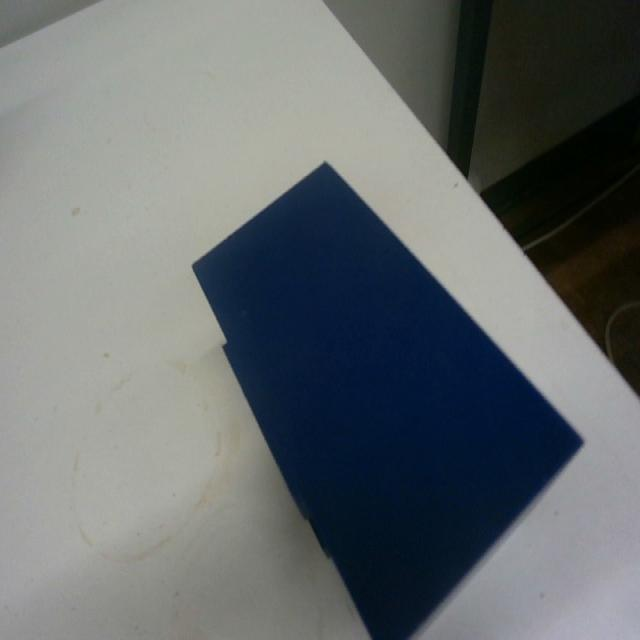Blue Cuboid: (189, 157, 585, 639)
